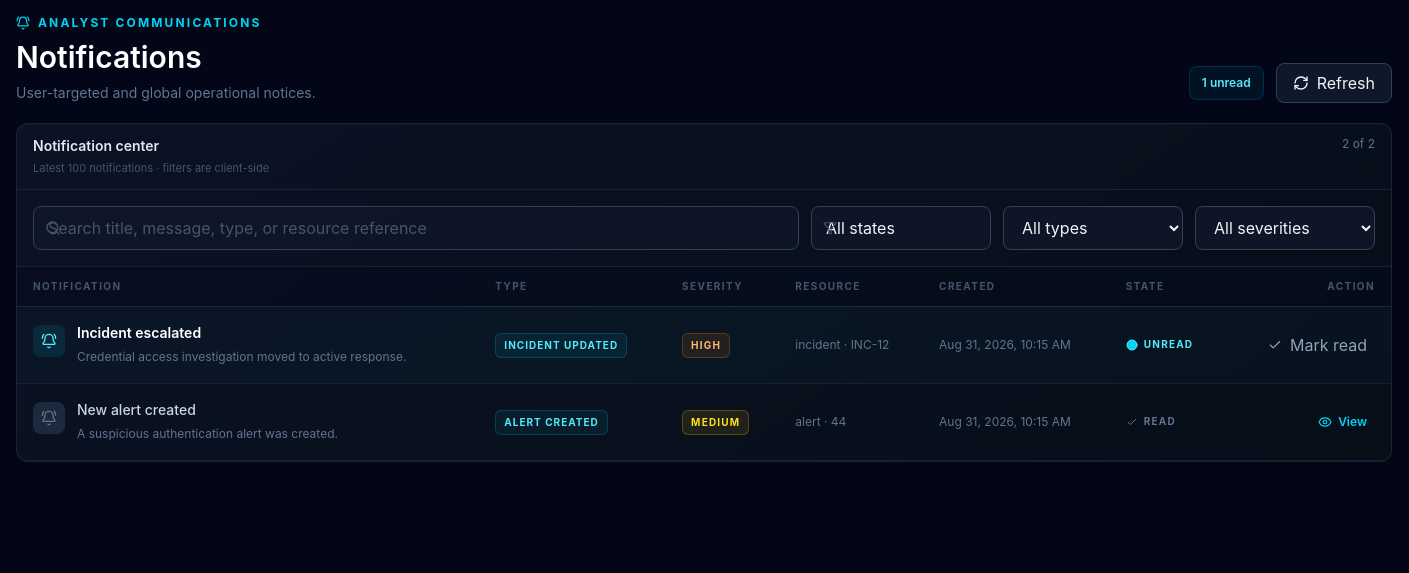
it: NotificationsPage › filters the returned notifications client-side
The image size is (1409, 573).
Type "not present" into the field named "Search notifications". click: (416, 228)
box: [33,206,799,250]
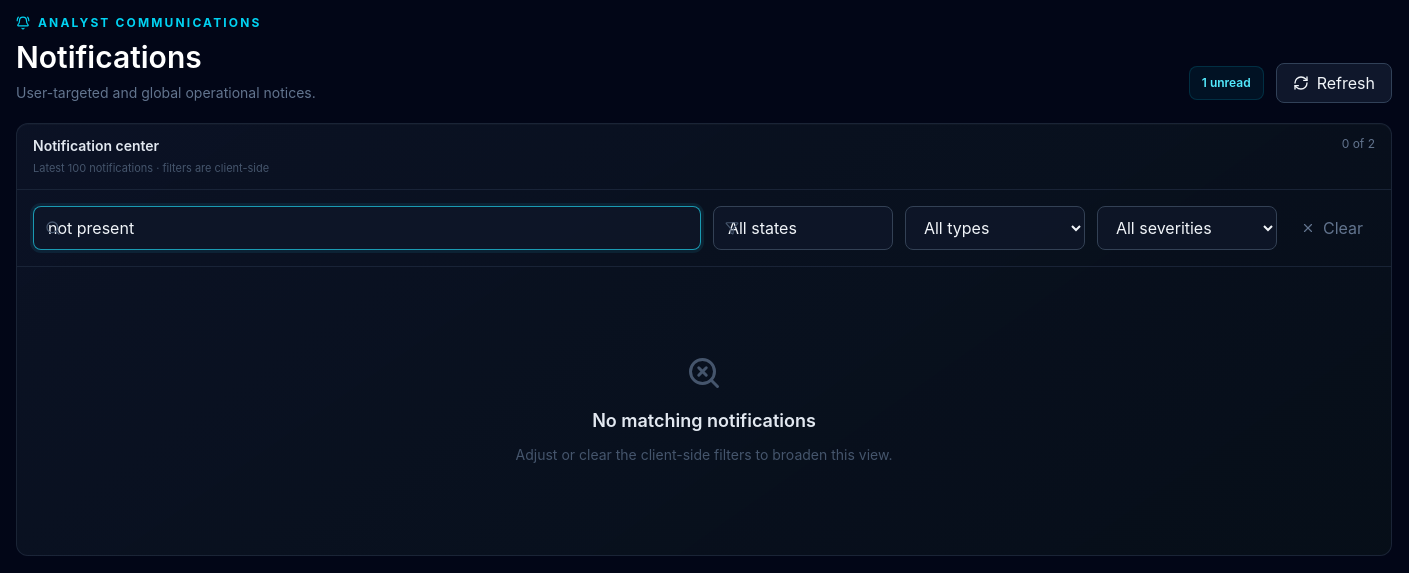
Expected: the heading "No matching notifications" is shown, [592,410,816,430]
